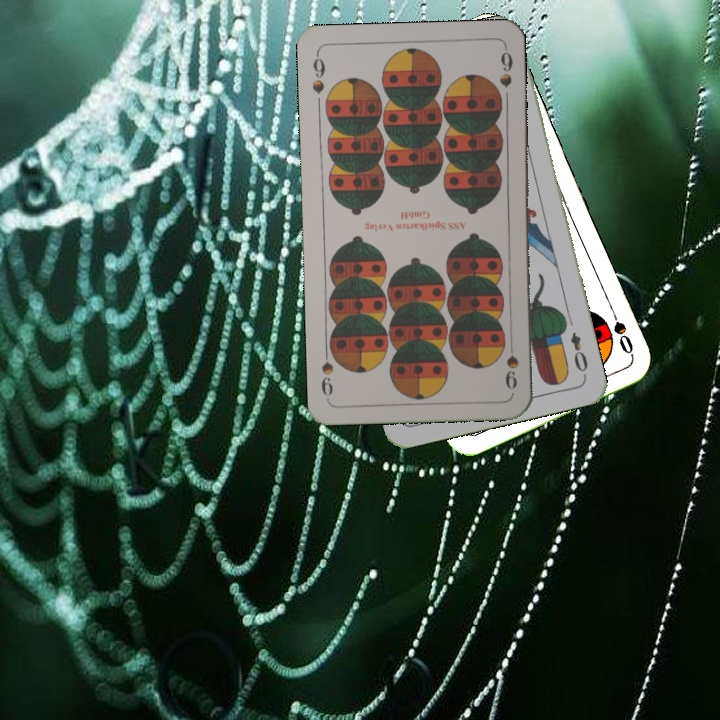EO: (566, 328, 591, 379)
S9: (501, 334, 521, 392), (308, 50, 328, 96)
SO: (605, 301, 636, 357)
